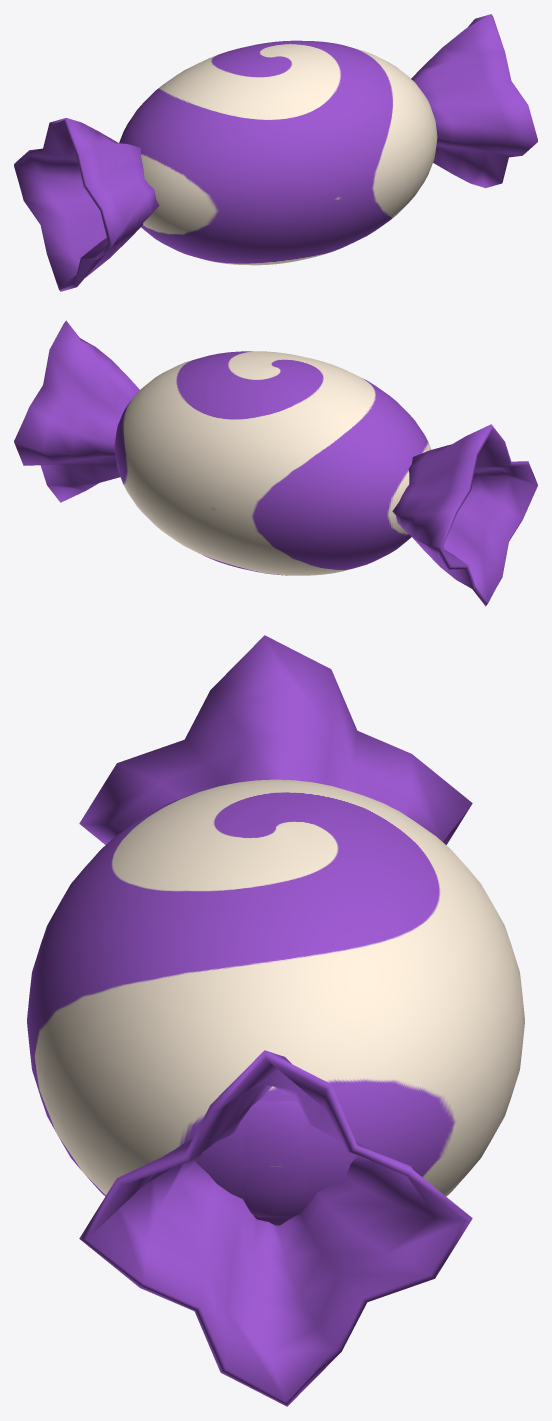
Rendered from purple_wrap.glb.
3 renders of one model, top to bottom at view 1: azimuth 30°, elevation 25°; view 2: azimuth 150°, elevation 25°; view 3: azimuth 270°, elevation 25°, orthographic. The views are drawn at different scales.
Parts seen in each view (by area): view 1: SwirlSweet, TwistedWrapper.002, TwistedWrapper.003; view 2: SwirlSweet, TwistedWrapper.002, TwistedWrapper.003; view 3: SwirlSweet, TwistedWrapper.003, TwistedWrapper.002, WrapperKnot.003.
Boxes of the visible parts, x1,y1,x2,y2 form: SwirlSweet: (119,40,437,265); TwistedWrapper.002: (14,118,159,291); TwistedWrapper.003: (411,14,537,187); SwirlSweet: (114,351,431,575); TwistedWrapper.002: (392,424,537,606); TwistedWrapper.003: (14,320,139,502); SwirlSweet: (27,779,524,1226); TwistedWrapper.003: (79,1050,472,1406); TwistedWrapper.002: (79,635,472,844); WrapperKnot.003: (241,1101,310,1217).
Size of the model in its own units: 0.6764 by 0.29 by 0.34.
2 materials, 1 textured.
